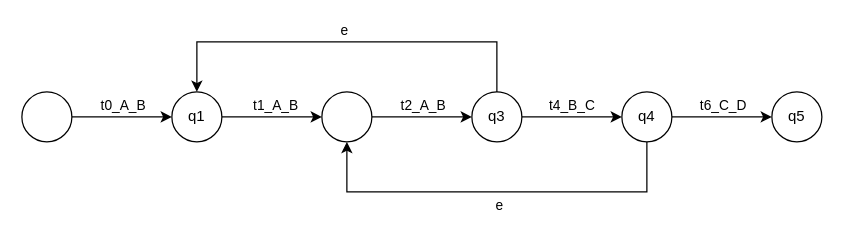
This 844x234 diagram has some shape labels left out. Here are the shapes that lost their labels. From the top down, the box of each, then its label:
(21, 91, 72, 142): q0
(321, 91, 372, 142): q2
